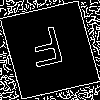F: (24, 25, 70, 78)
